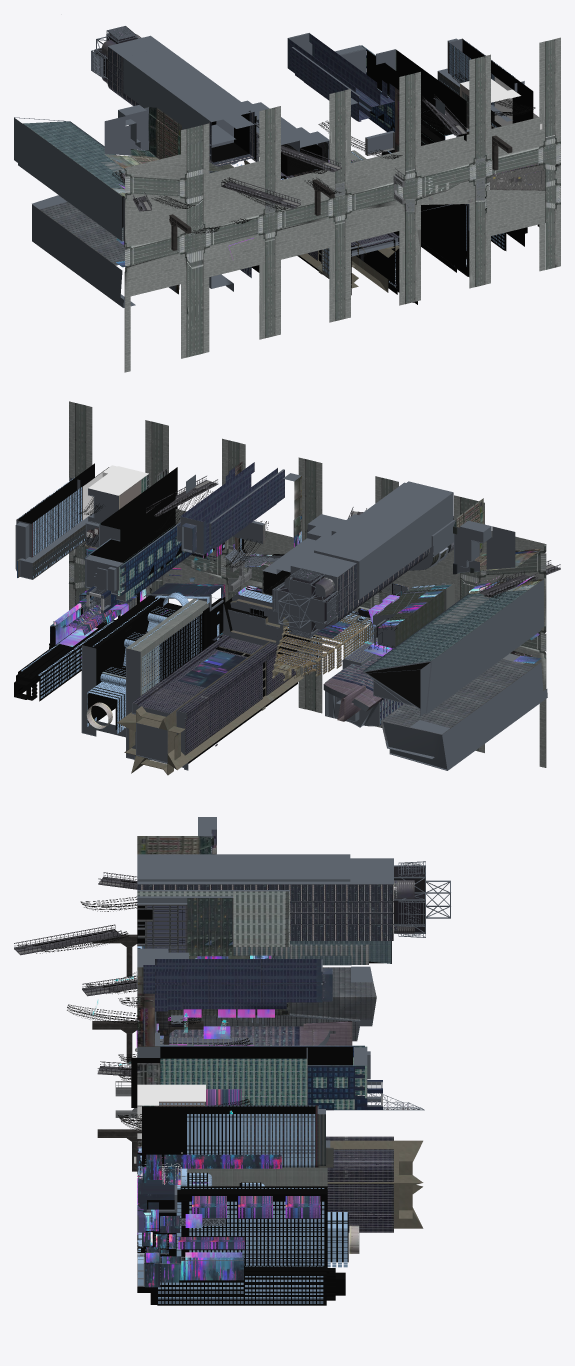
The model's file is cityy.glb.
3 renders of one model, top to bottom at view 1: azimuth 30°, elevation 25°; view 2: azimuth 150°, elevation 25°; view 3: azimuth 270°, elevation 25°, orthographic. The views are drawn at different scales.
Visible parts, largest first — view 1: landscape_02_landscape_01_0_19, skyscraper01_skyscraper_texture_0_115, interior_01_interior_texture_0_15, Object32_metal_gray_0_88, Object26_metal_gray_0001_74, Object01_skyscraper_wall_texture_0_25, Object24_metal_gray_0_69, metal_gray01_metal_gray_0_23, Object31_metal_gray_0_86, Object03_skyscraper_wall_texture_0_29, Object02_skyscraper_wall_texture_0_27, glass_02_glass_01_0_10 (+4 smaller); view 2: skyscraper01_skyscraper_texture_0_115, landscape_02_landscape_01_0_19, Object01_skyscraper_wall_texture_0_25, Object32_metal_gray_0_88, interior_01_interior_texture_0_15, Object26_metal_gray_0001_74, Object02_skyscraper_wall_texture_0_27, metal_gray01_metal_gray_0_23, Object24_metal_gray_0_69, glass_02_glass_01_0_10, Object31_metal_gray_0_86, Object29_metal_gray_0001_81 (+12 smaller); view 3: skyscraper01_skyscraper_texture_0_115, glass_02_glass_01_0_10, Object01_skyscraper_wall_texture_0_25, interior_01_interior_texture_0_15, Object02_skyscraper_wall_texture_0_27, Object32_metal_gray_0_88, advertising_screens_texture_03_advertising_screens_texture_0, Object03_skyscraper_wall_texture_0_29, metal_gray01_metal_gray_0_23, Object20_street_level_texture_01_0_63, Object16_street_level_texture_01_0_55, Object30_metal_gray_0_83 (+9 smaller).
Boxes of the visible parts, bbox=[...] form: landscape_02_landscape_01_0_19: bbox=[124, 37, 560, 372]; skyscraper01_skyscraper_texture_0_115: bbox=[23, 33, 452, 285]; interior_01_interior_texture_0_15: bbox=[122, 40, 533, 295]; Object32_metal_gray_0_88: bbox=[108, 33, 364, 179]; Object26_metal_gray_0001_74: bbox=[14, 116, 399, 281]; Object01_skyscraper_wall_texture_0_25: bbox=[95, 34, 399, 294]; Object24_metal_gray_0_69: bbox=[32, 174, 395, 307]; metal_gray01_metal_gray_0_23: bbox=[32, 26, 237, 209]; Object31_metal_gray_0_86: bbox=[340, 38, 512, 162]; Object03_skyscraper_wall_texture_0_29: bbox=[365, 38, 495, 155]; Object02_skyscraper_wall_texture_0_27: bbox=[363, 149, 527, 304]; glass_02_glass_01_0_10: bbox=[233, 40, 515, 286]; skyscraper01_skyscraper_texture_0_115: bbox=[84, 462, 540, 755]; landscape_02_landscape_01_0_19: bbox=[69, 401, 546, 767]; Object01_skyscraper_wall_texture_0_25: bbox=[80, 476, 543, 775]; Object32_metal_gray_0_88: bbox=[76, 469, 455, 629]; interior_01_interior_texture_0_15: bbox=[18, 463, 430, 763]; Object26_metal_gray_0001_74: bbox=[220, 526, 543, 716]; Object02_skyscraper_wall_texture_0_27: bbox=[14, 587, 267, 720]; metal_gray01_metal_gray_0_23: bbox=[272, 520, 491, 769]; Object24_metal_gray_0_69: bbox=[131, 637, 547, 770]; glass_02_glass_01_0_10: bbox=[18, 477, 435, 733]; Object31_metal_gray_0_86: bbox=[16, 474, 301, 629]; Object29_metal_gray_0001_81: bbox=[81, 577, 284, 759]; skyscraper01_skyscraper_texture_0_115: bbox=[137, 884, 393, 1232]; glass_02_glass_01_0_10: bbox=[137, 946, 347, 1303]; Object01_skyscraper_wall_texture_0_25: bbox=[137, 829, 424, 1253]; interior_01_interior_texture_0_15: bbox=[131, 905, 383, 1304]; Object02_skyscraper_wall_texture_0_27: bbox=[137, 1172, 345, 1305]; Object32_metal_gray_0_88: bbox=[137, 854, 424, 1109]; advertising_screens_texture_03_advertising_screens_texture_0: bbox=[136, 1009, 320, 1262]; Object03_skyscraper_wall_texture_0_29: bbox=[137, 993, 333, 1167]; metal_gray01_metal_gray_0_23: bbox=[198, 817, 450, 1026]; Object20_street_level_texture_01_0_63: bbox=[146, 1154, 281, 1232]; Object16_street_level_texture_01_0_55: bbox=[137, 1176, 243, 1280]; Object30_metal_gray_0_83: bbox=[134, 1084, 205, 1184].
Bounding box in the file's own units: 29.8 × 15.74 × 26.15.
Materials: 24 (16 with a texture image).
